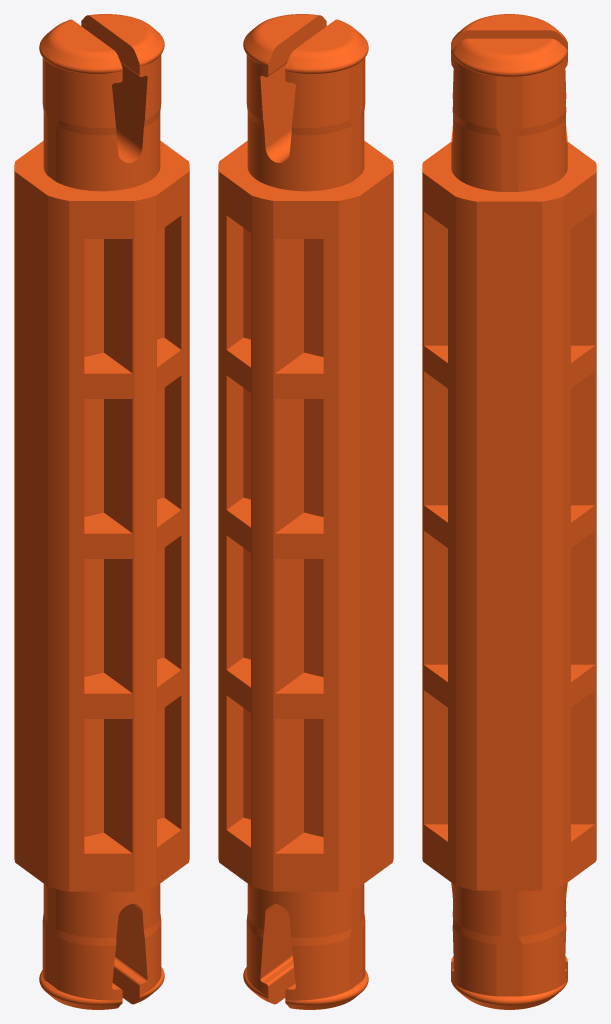
3 views of the same model, side by side, from view 1: azimuth 30°, elevation 25°; view 2: azimuth 150°, elevation 25°; view 3: azimuth 270°, elevation 25° (orthographic).
Parts seen in each view (by area): view 1: 228-2500-2271; view 2: 228-2500-2271; view 3: 228-2500-2271.
Part boxes in pixels (x1,y1,x2,y2): 228-2500-2271: (14,14,189,1009); 228-2500-2271: (218,14,393,1009); 228-2500-2271: (422,14,596,1009).
Size of the model in its own units: 0.0058 by 0.0377 by 0.00624.
